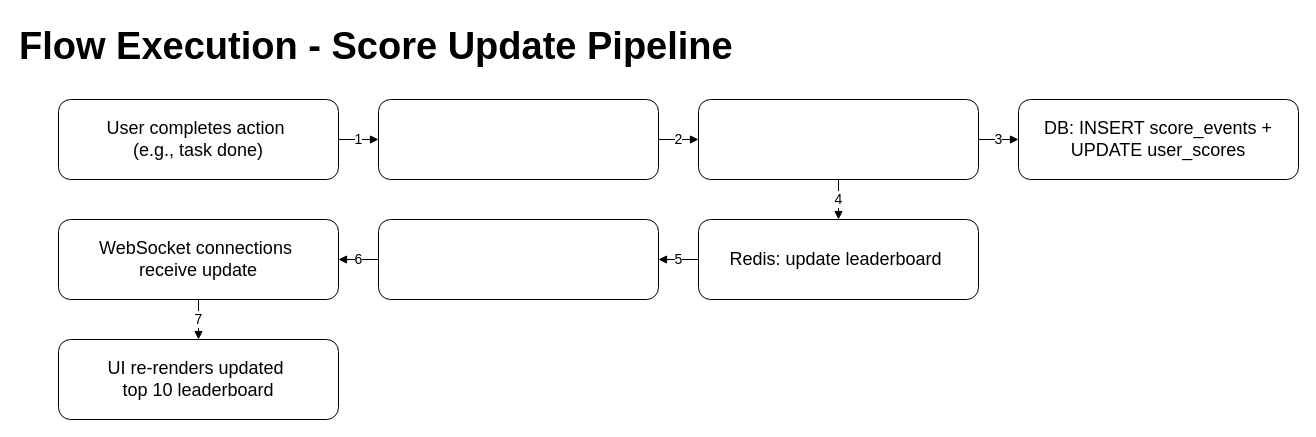
Image size: 1316x437. Some labels were removed from this diagram. The shapes that lost their labels are listed below. From the top down, each one's centre as x and y in pixels, then its label:
At (518,139): "Frontend App prepare POST /scores/events".
At (838,139): "API Service validate auth + action_type resolve points".
At (518,259): "Publish leaderboard_updated event to subscribers".
